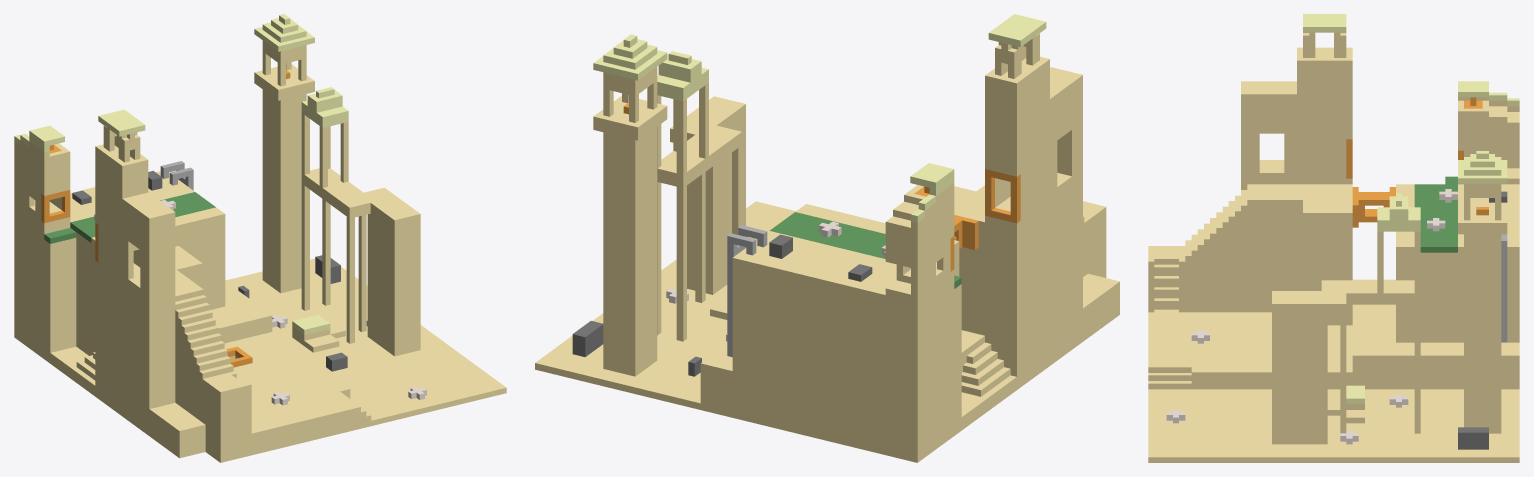
File: stage.obj
3 views of the same model, side by side, from view 1: azimuth 30°, elevation 25°; view 2: azimuth 150°, elevation 25°; view 3: azimuth 270°, elevation 25° (orthographic). The views are drawn at different scales.
Size of the model in its own units: 6 by 5.2 by 6.
Materials: 1 (1 with a texture image).
